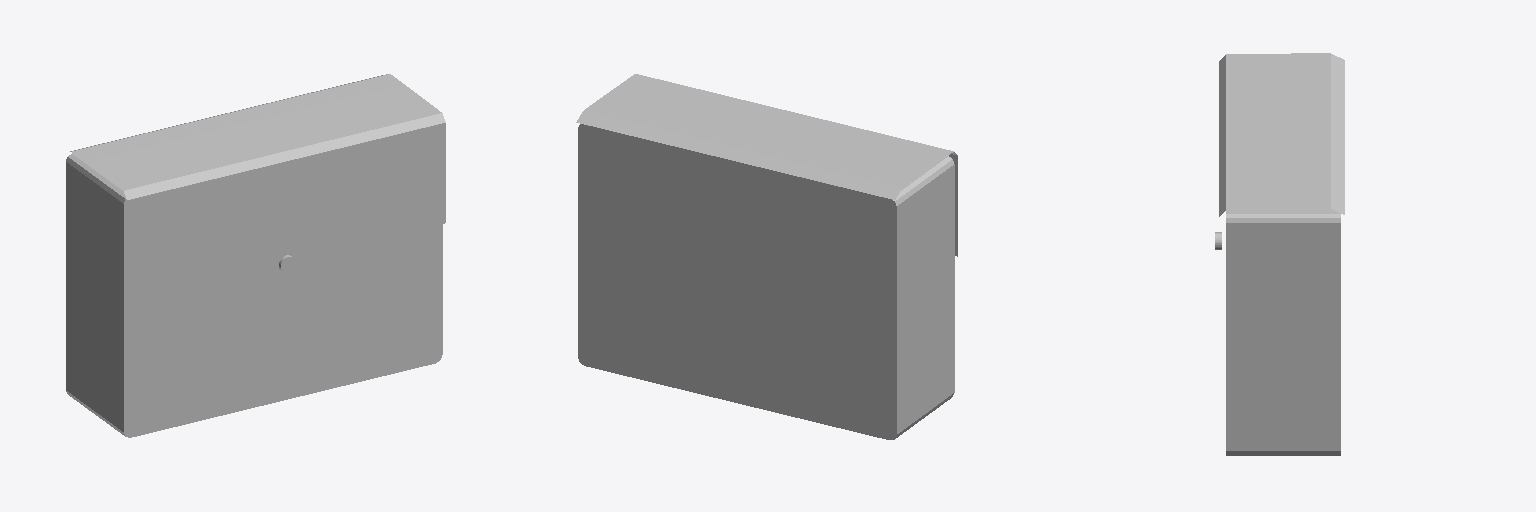
Rendered from briefcase.obj.
3 renders of one model, left to right at view 1: azimuth 30°, elevation 25°; view 2: azimuth 150°, elevation 25°; view 3: azimuth 270°, elevation 25°, orthographic.
Visible parts, largest first — view 1: Plane, Cylinder; view 2: Plane, Cylinder; view 3: Plane, Cylinder.
Boxes of the visible parts, x1,y1,x2,y2 form: Plane: [66, 153, 442, 437]; Cylinder: [70, 74, 445, 300]; Plane: [578, 124, 954, 439]; Cylinder: [576, 74, 957, 256]; Plane: [1226, 209, 1340, 455]; Cylinder: [1215, 53, 1344, 249].
Bounding box in the file's own units: 2 × 1.5 × 0.7039.